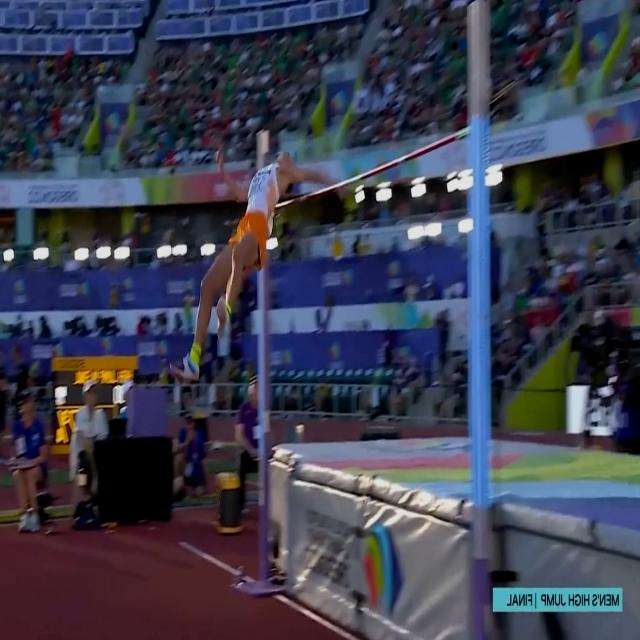jump: (168, 139, 350, 383)
